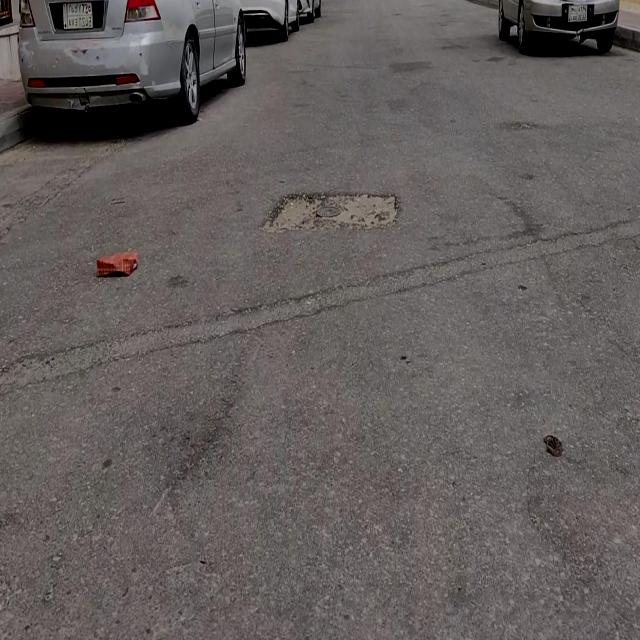Potholes: (270, 192, 401, 231)
